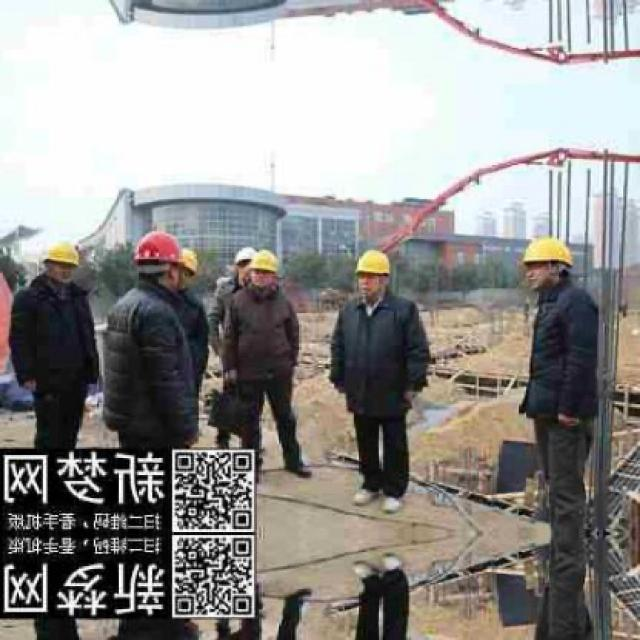helmet: (515, 233, 580, 291), (129, 230, 189, 291), (354, 247, 394, 300), (40, 238, 83, 286), (229, 244, 260, 292), (252, 247, 282, 291)
